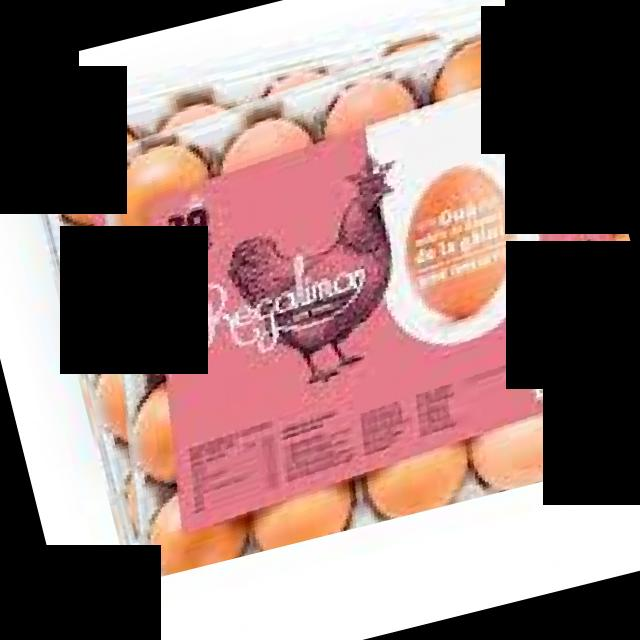eggs: (22, 0, 640, 582)
